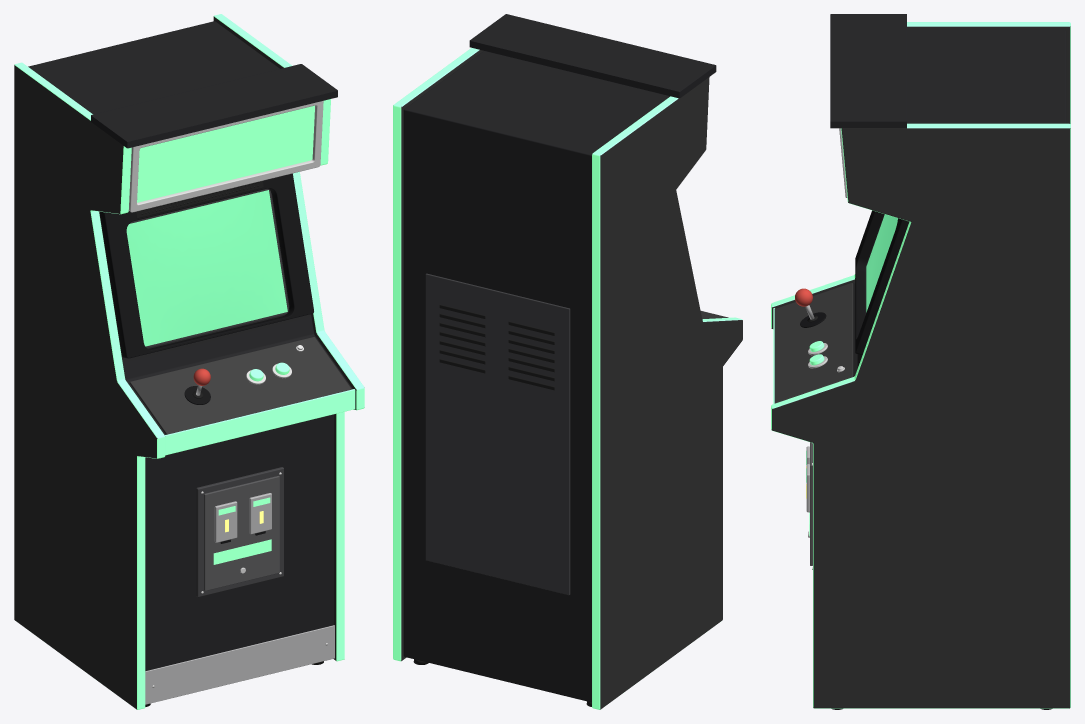
File: cabinet.glb
The picture shows the model from 3 angles, left to right: view 1: azimuth 30°, elevation 25°; view 2: azimuth 150°, elevation 25°; view 3: azimuth 270°, elevation 25°; orthographic projection. The views are drawn at different scales.
Parts seen in each view (by area): view 1: SIDE_L, BODY, SCREEN, PANEL_ART, MARQUEE, HOOD, BEZEL, KICK, SIDE_R, DOOR, PANEL_LIP, MARQUEE_FRAME (+5 smaller); view 2: BODY, SIDE_L, BACK_DOOR, HOOD, SIDE_R; view 3: SIDE_R, BODY, HOOD, PANEL_ART, BEZEL, SIDE_L, SCREEN.
Part boxes in pixels (bbox=[...]): SIDE_L: bbox=[14, 62, 165, 709]; BODY: bbox=[28, 21, 352, 671]; SCREEN: bbox=[126, 190, 287, 346]; PANEL_ART: bbox=[129, 337, 351, 434]; MARQUEE: bbox=[137, 105, 314, 202]; HOOD: bbox=[91, 64, 337, 148]; BEZEL: bbox=[99, 173, 313, 358]; KICK: bbox=[145, 625, 334, 704]; SIDE_R: bbox=[213, 14, 364, 661]; DOOR: bbox=[204, 475, 279, 590]; PANEL_LIP: bbox=[165, 389, 355, 455]; MARQUEE_FRAME: bbox=[128, 101, 323, 212]; BODY: bbox=[403, 51, 669, 702]; SIDE_L: bbox=[592, 77, 742, 709]; BACK_DOOR: bbox=[425, 273, 570, 595]; HOOD: bbox=[469, 14, 716, 98]; SIDE_R: bbox=[393, 48, 483, 661]; SIDE_R: bbox=[771, 123, 1070, 708]; BODY: bbox=[853, 30, 1066, 376]; HOOD: bbox=[830, 14, 906, 128]; PANEL_ART: bbox=[774, 283, 853, 403]; BEZEL: bbox=[855, 210, 909, 355]; SIDE_L: bbox=[771, 22, 1070, 329]; SCREEN: bbox=[866, 214, 897, 312].
Bounding box in the file's own units: 0.73 × 1.88 × 0.8599.
